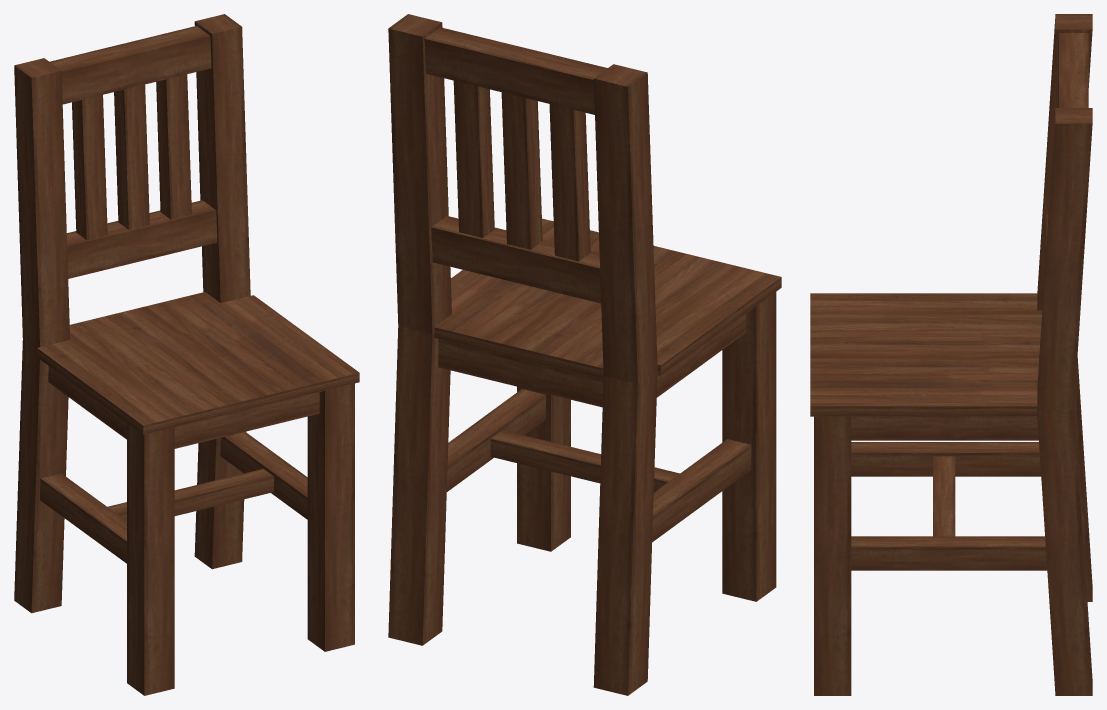
Rendered from Chair.fbx.
The picture shows the model from 3 angles, left to right: view 1: azimuth 30°, elevation 25°; view 2: azimuth 150°, elevation 25°; view 3: azimuth 270°, elevation 25°; orthographic projection. The views are drawn at different scales.
Parts seen in each view (by area): view 1: Chair; view 2: Chair; view 3: Chair.
Boxes of the visible parts, x1,y1,x2,y2 form: Chair: [14, 14, 359, 695]; Chair: [388, 14, 781, 695]; Chair: [810, 14, 1092, 695].
Bounding box in the file's own units: 36 × 85 × 38.
Materials: 1 (1 with a texture image).
